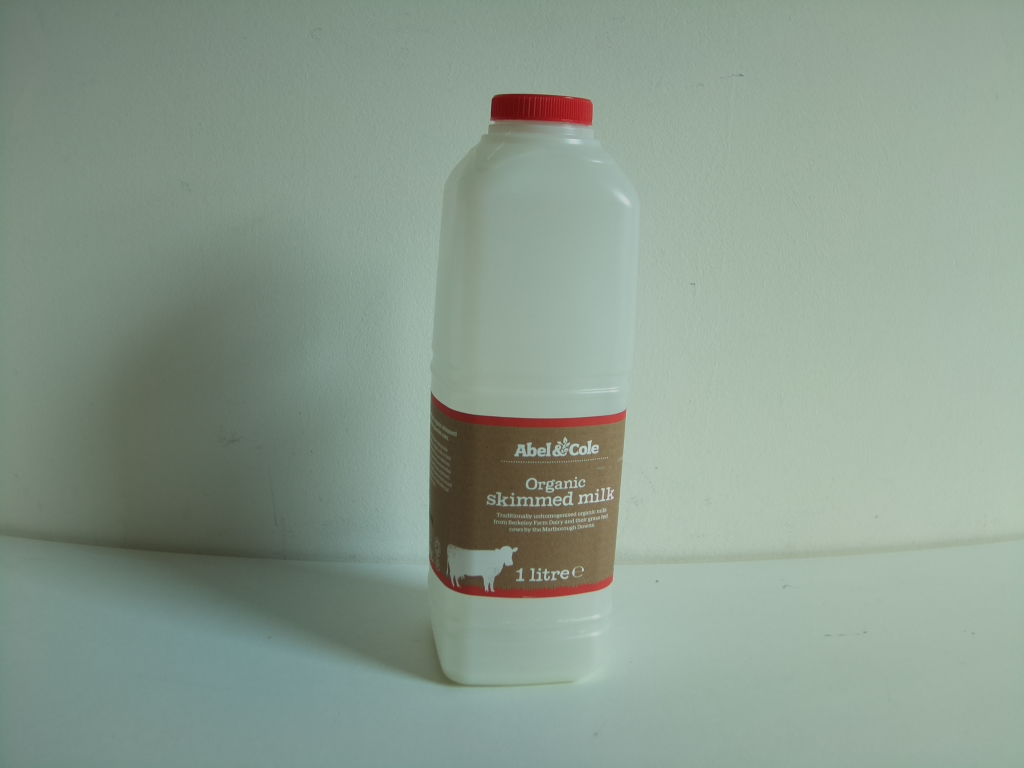milk: (422, 87, 649, 701)
